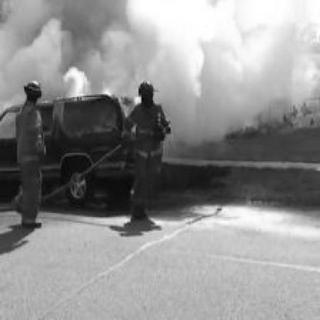Smoke: (0, 0, 308, 118)
